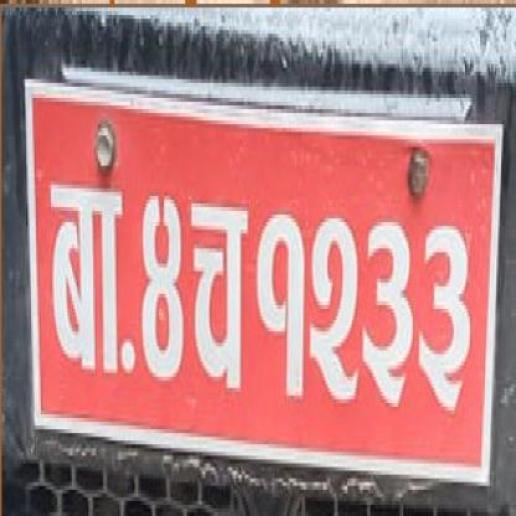1: (253, 200, 309, 411)
2: (308, 200, 362, 407)
3: (415, 211, 477, 425), (362, 204, 414, 415)
4: (135, 181, 189, 385)
ba: (44, 170, 126, 384)
cha: (187, 185, 253, 407)
